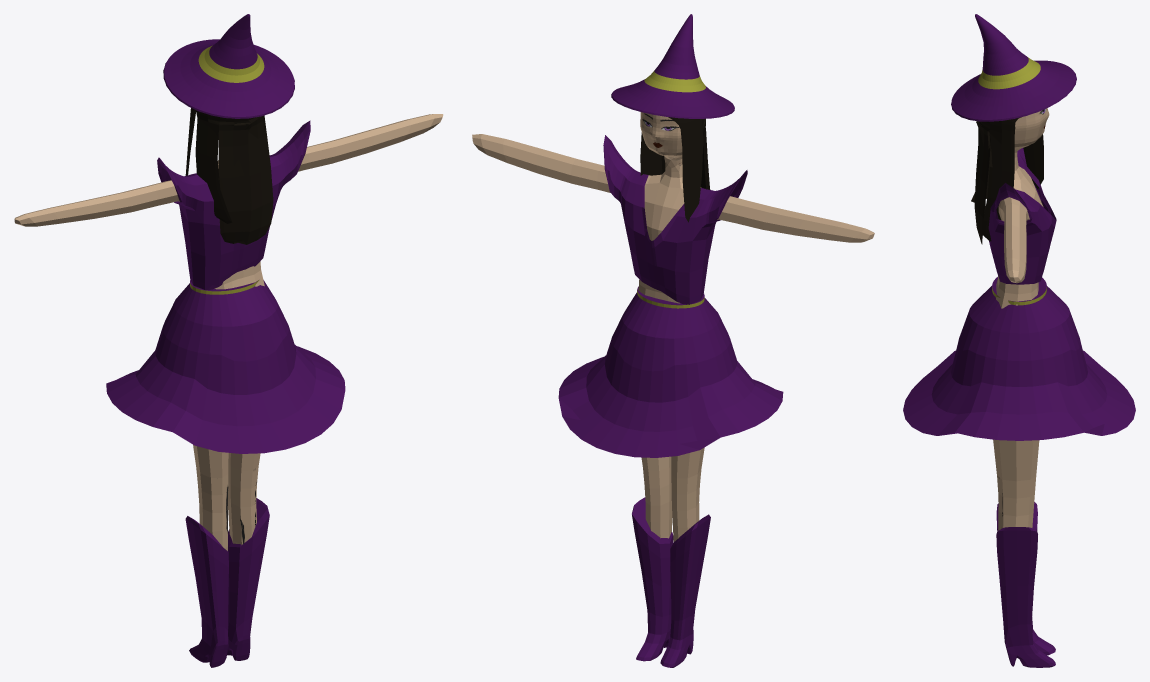
Rendered from character.fbx.
3 views of the same model, side by side, from view 1: azimuth 30°, elevation 25°; view 2: azimuth 150°, elevation 25°; view 3: azimuth 270°, elevation 25° (orthographic). The views are drawn at different scales.
Visible parts, largest first — view 1: Cone, Cube.001, Cone.001, Cube.003, Cube.004, Cube.002; view 2: Cone, Cube.001, Cube.002, Cube.004, Cone.001, Cube.003; view 3: Cone, Cube.001, Cone.001, Cube.004, Cube.003, Cube.002.
Part boxes in pixels (box(x1,y1,x2,y2)): Cone: box(106, 280, 345, 453); Cube.001: box(14, 114, 443, 550); Cone.001: box(163, 14, 294, 118); Cube.003: box(185, 108, 273, 244); Cube.004: box(185, 498, 269, 667); Cube.002: box(157, 120, 310, 289); Cone: box(558, 287, 783, 457); Cube.001: box(472, 112, 874, 541); Cube.002: box(603, 135, 747, 304); Cube.004: box(632, 497, 710, 667); Cone.001: box(611, 14, 734, 118); Cube.003: box(640, 117, 710, 222); Cone: box(903, 277, 1135, 440); Cube.001: box(993, 108, 1049, 530); Cone.001: box(951, 14, 1076, 121); Cube.004: box(996, 502, 1055, 667); Cube.003: box(971, 117, 1043, 244); Cube.002: box(988, 148, 1056, 284).
Size of the model in its own units: 100 by 148 by 48.54.
